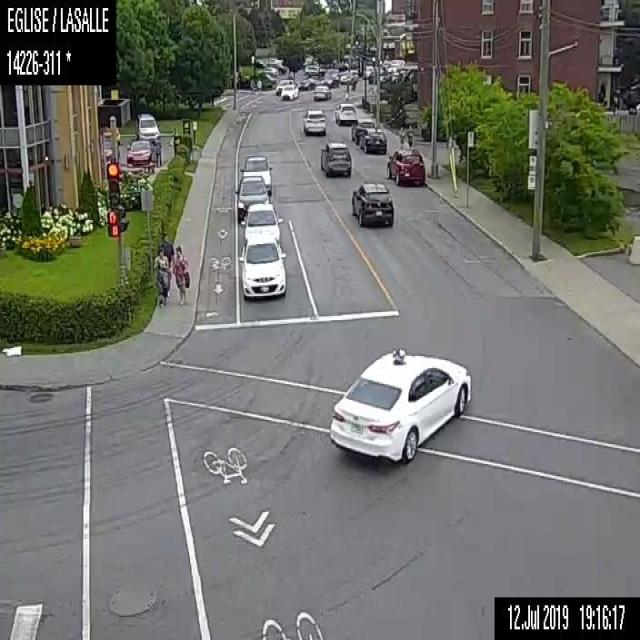pedestrian: (170, 244, 190, 308), (154, 244, 171, 308), (152, 132, 162, 167), (404, 123, 414, 148), (398, 123, 404, 148), (256, 77, 261, 94), (250, 77, 254, 93)
vehicle: (327, 347, 472, 464), (234, 234, 286, 299), (349, 180, 394, 224), (238, 200, 282, 242), (233, 175, 272, 218), (384, 147, 426, 185), (239, 152, 273, 195), (318, 138, 352, 174), (125, 136, 153, 166), (133, 111, 160, 138), (350, 116, 376, 144), (333, 101, 359, 127), (303, 106, 326, 134), (361, 128, 386, 153), (279, 82, 298, 101), (303, 62, 325, 76), (312, 84, 331, 100), (321, 72, 340, 88), (275, 77, 293, 93), (297, 77, 317, 90)
